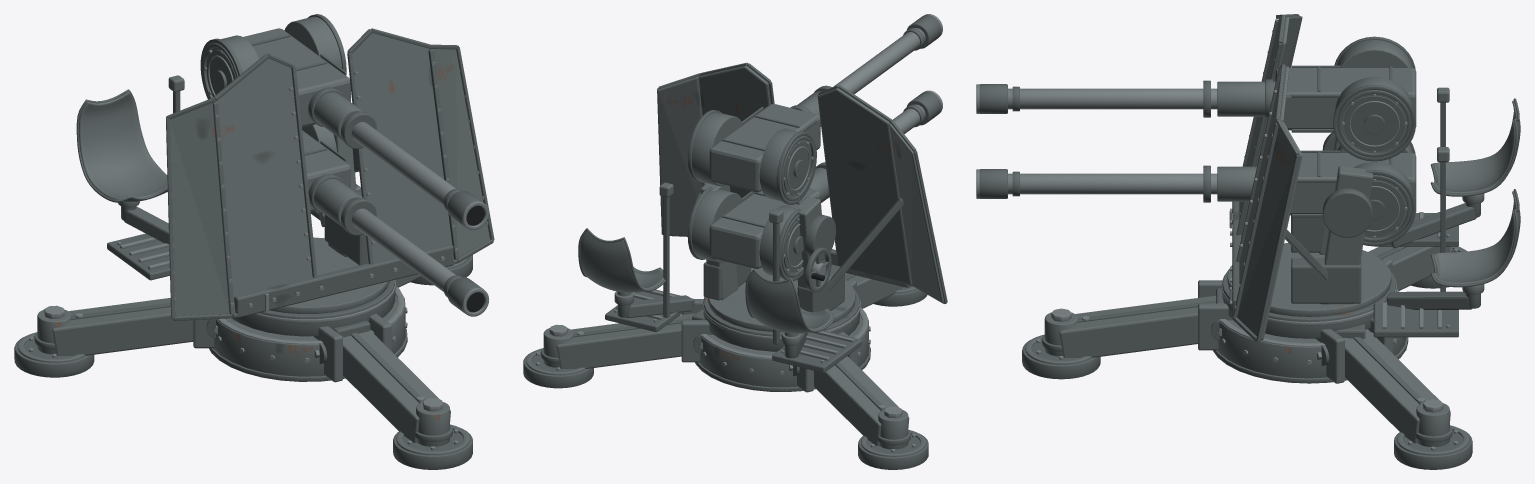
Rendered from FZ43-F2-PGF-static.glb.
The picture shows the model from 3 angles, left to right: view 1: azimuth 30°, elevation 25°; view 2: azimuth 150°, elevation 25°; view 3: azimuth 270°, elevation 25°; orthographic projection. The views are drawn at different scales.
Parts seen in each view (by area): view 1: FZ43_Shield_Center_-1, FZ43_Shield_Center_1, FZ43_Shield_Folded_Wing_-1, FZ43_Rounded_Concave_Seat_-1, FZ43_Tripod_Arm_2, FZ43_Tripod_Arm_0, FZ43_Shield_Folded_Wing_1, FZ43_Base_Low_Cylinder, FZ43_Shield_Bottom_Closed_Bridge, FZ43_upper_Closed_Housing, FZ43_Low_Turntable, FZ43_Upper_Turntable (+35 smaller); view 2: FZ43_Shield_Center_-1, FZ43_Shield_Folded_Wing_1, FZ43_upper_Closed_Housing, FZ43_Tripod_Arm_1, FZ43_Shield_Folded_Wing_-1, FZ43_lower_Closed_Housing, FZ43_Base_Low_Cylinder, FZ43_Tripod_Arm_2, FZ43_Shield_Center_1, FZ43_Rounded_Concave_Seat_-1, FZ43_Rounded_Concave_Seat_1, FZ43_Upper_Turntable (+41 smaller); view 3: FZ43_Tripod_Arm_0, FZ43_Shield_Folded_Wing_1, FZ43_Tripod_Arm_1, FZ43_lower_Closed_Outer_Tube, FZ43_upper_Closed_Outer_Tube, FZ43_upper_Closed_Housing, FZ43_Base_Low_Cylinder, FZ43_Upper_Turntable, FZ43_lower_Closed_Housing, FZ43_Rounded_Concave_Seat_1, FZ43_Support_Lower_Gusset_1, FZ43_Rounded_Concave_Seat_-1 (+43 smaller).
Boxes of the visible parts, x1,y1,x2,y2 form: FZ43_Shield_Center_-1: (213, 55, 312, 312); FZ43_Shield_Center_1: (347, 29, 453, 261); FZ43_Shield_Folded_Wing_-1: (166, 102, 229, 316); FZ43_Rounded_Concave_Seat_-1: (79, 91, 167, 202); FZ43_Tripod_Arm_2: (52, 298, 193, 355); FZ43_Tripod_Arm_0: (343, 330, 450, 442); FZ43_Shield_Folded_Wing_1: (429, 48, 489, 256); FZ43_Base_Low_Cylinder: (213, 295, 405, 376); FZ43_Shield_Bottom_Closed_Bridge: (234, 243, 453, 317); FZ43_upper_Closed_Housing: (243, 28, 350, 127); FZ43_Low_Turntable: (232, 280, 395, 336); FZ43_Upper_Turntable: (270, 237, 389, 313); FZ43_Shield_Center_-1: (817, 88, 911, 285); FZ43_Shield_Folded_Wing_1: (657, 76, 702, 236); FZ43_upper_Closed_Housing: (709, 103, 820, 192); FZ43_Tripod_Arm_1: (556, 313, 695, 368); FZ43_Shield_Folded_Wing_-1: (889, 123, 944, 303); FZ43_lower_Closed_Housing: (709, 189, 820, 268); FZ43_Base_Low_Cylinder: (699, 314, 868, 387); FZ43_Tripod_Arm_2: (814, 356, 909, 445); FZ43_Shield_Center_1: (698, 65, 770, 198); FZ43_Rounded_Concave_Seat_-1: (747, 271, 832, 333); FZ43_Rounded_Concave_Seat_1: (580, 231, 664, 292); FZ43_Upper_Turntable: (708, 267, 855, 331); FZ43_Tripod_Arm_0: (1059, 295, 1216, 357); FZ43_Shield_Folded_Wing_1: (1237, 121, 1302, 339); FZ43_Tripod_Arm_1: (1343, 329, 1450, 443); FZ43_lower_Closed_Outer_Tube: (1008, 173, 1217, 194); FZ43_upper_Closed_Outer_Tube: (1008, 88, 1217, 109); FZ43_upper_Closed_Housing: (1275, 68, 1416, 130); FZ43_Base_Low_Cylinder: (1218, 320, 1406, 378); FZ43_Upper_Turntable: (1227, 243, 1391, 316); FZ43_lower_Closed_Housing: (1290, 153, 1416, 215); FZ43_Rounded_Concave_Seat_1: (1433, 191, 1520, 284); FZ43_Support_Lower_Gusset_1: (1291, 258, 1361, 303); FZ43_Rounded_Concave_Seat_-1: (1433, 100, 1520, 193).
Size of the model in its own units: 3.03 by 2.13 by 3.25.
4 materials, 2 textured.
